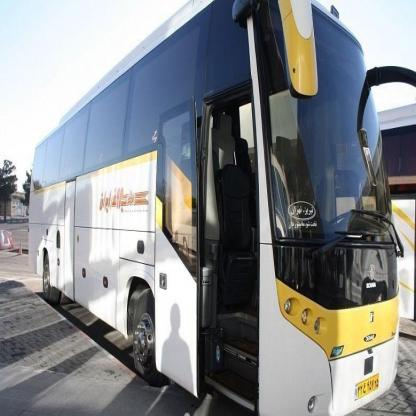Bus: (27, 0, 402, 411), (376, 95, 416, 315)
